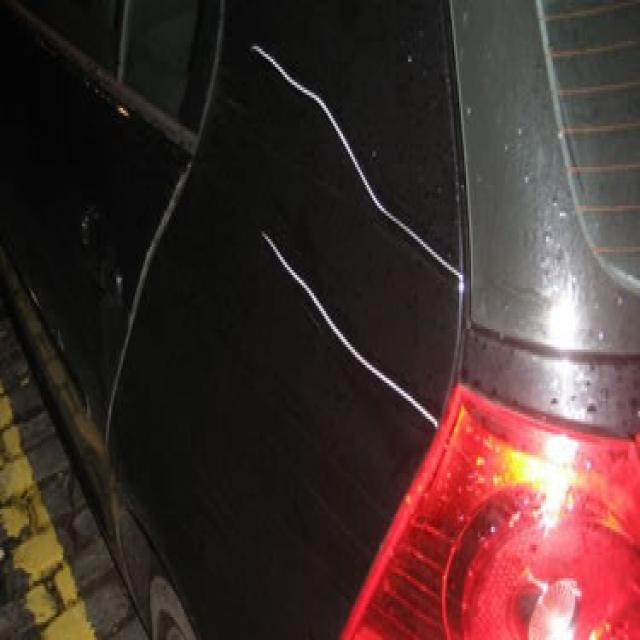scratch: (248, 38, 462, 286), (257, 226, 441, 436)
